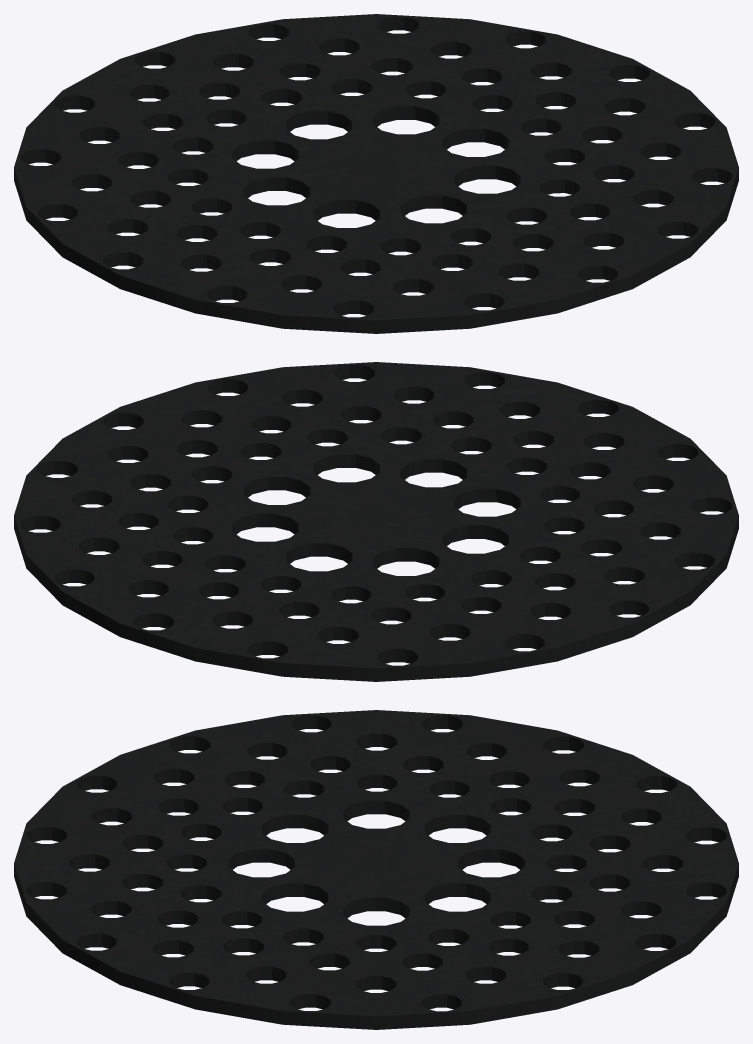
The model's file is SM_光谱仪_旋转盘.FBX.
3 views of the same model, one above another, from view 1: azimuth 30°, elevation 25°; view 2: azimuth 150°, elevation 25°; view 3: azimuth 270°, elevation 25° (orthographic).
Visible parts, largest first — view 1: SM_光谱仪_旋转盘; view 2: SM_光谱仪_旋转盘; view 3: SM_光谱仪_旋转盘.
Part boxes in pixels (x1=…): SM_光谱仪_旋转盘: x1=14, y1=14, x2=738, y2=333; SM_光谱仪_旋转盘: x1=14, y1=362, x2=738, y2=681; SM_光谱仪_旋转盘: x1=14, y1=710, x2=738, y2=1029.
Size of the model in its own units: 0.2738 by 0.00566 by 0.2738.
